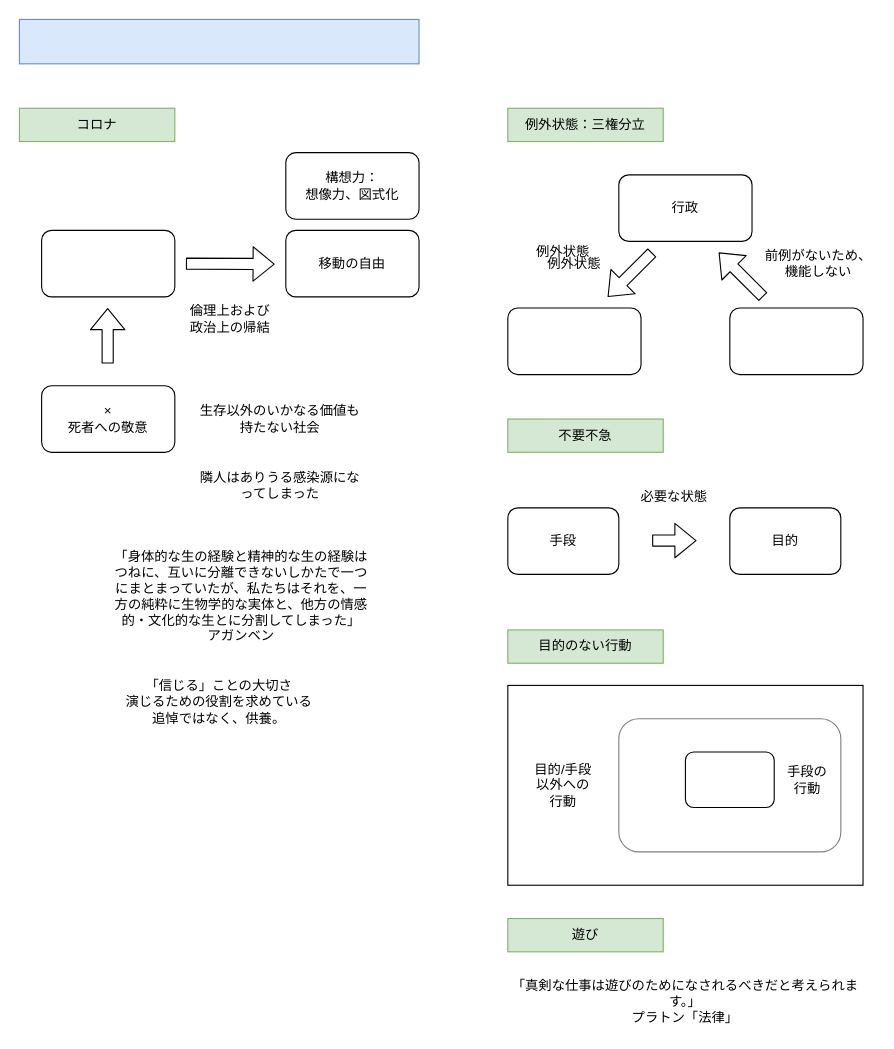
Image size: 894x1049. Some labels were removed from this diagram. Each missing label, with the centre of its shape:
例外状態： 緊急事態: (x=108, y=263)
司法: (x=796, y=341)
目的の行動: (x=729, y=779)
目的への抵抗: (x=218, y=41)
立法: (x=574, y=341)
